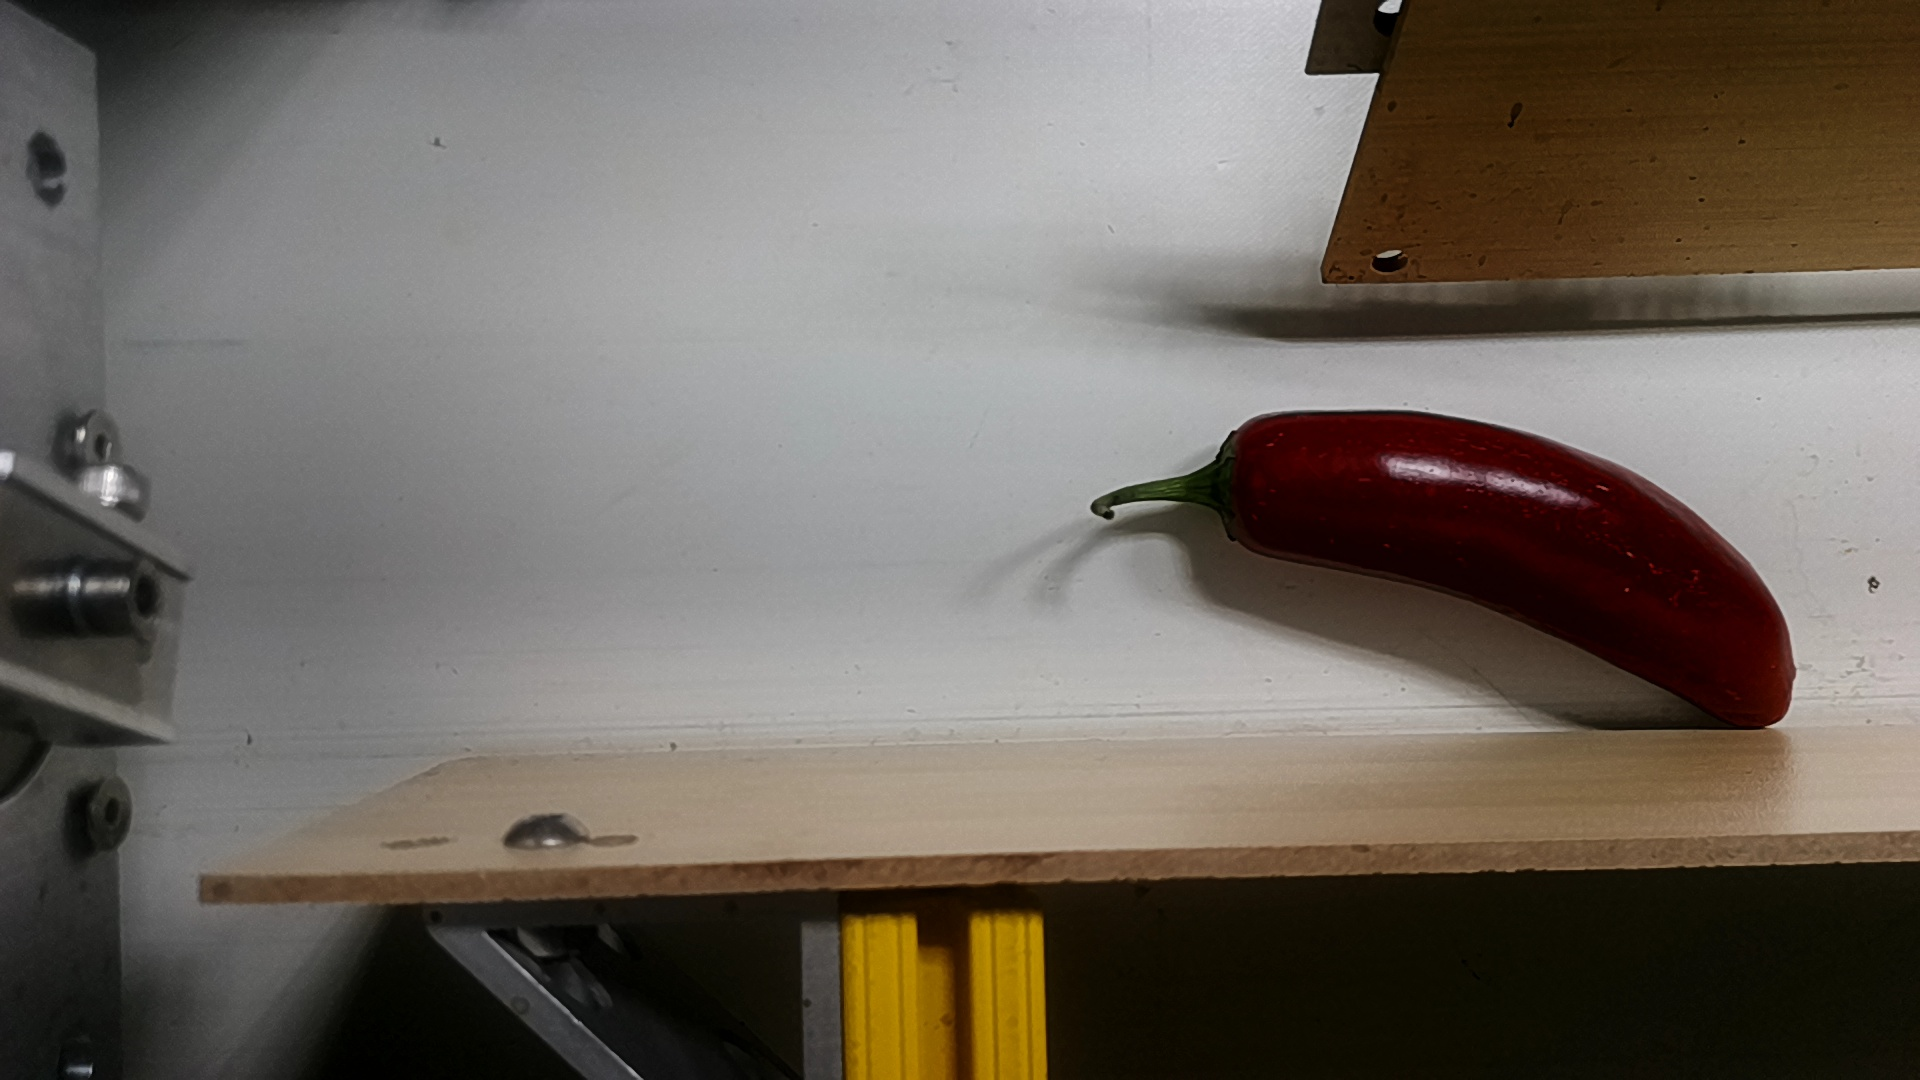Cut Point: (1185, 406, 1294, 567)
